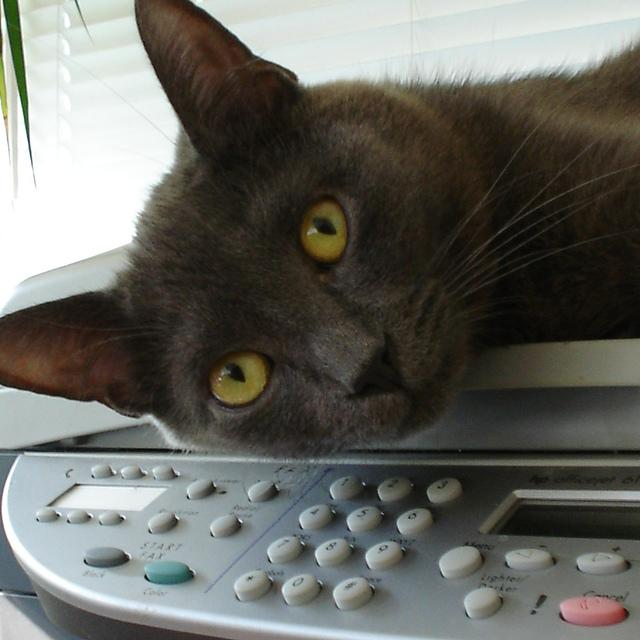animals: (0, 0, 395, 408)
